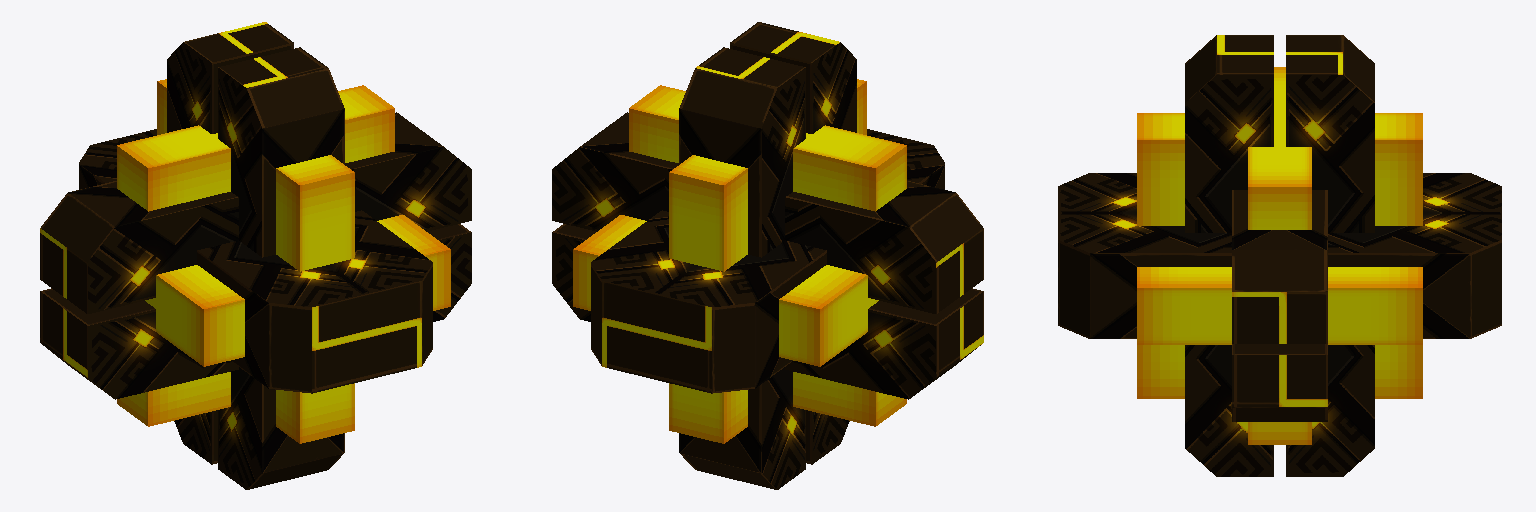
3 views of the same model, side by side, from view 1: azimuth 30°, elevation 25°; view 2: azimuth 150°, elevation 25°; view 3: azimuth 270°, elevation 25° (orthographic).
Visible parts, largest first — view 1: PlanetBefall; view 2: PlanetBefall; view 3: PlanetBefall.
Part boxes in pixels (bbox=[...]): PlanetBefall: bbox=[40, 22, 471, 489]; PlanetBefall: bbox=[552, 22, 983, 489]; PlanetBefall: bbox=[1058, 35, 1501, 476].
Bounding box in the file's own units: 2.8 × 2.8 × 2.8.
Materials: 1 (1 with a texture image).